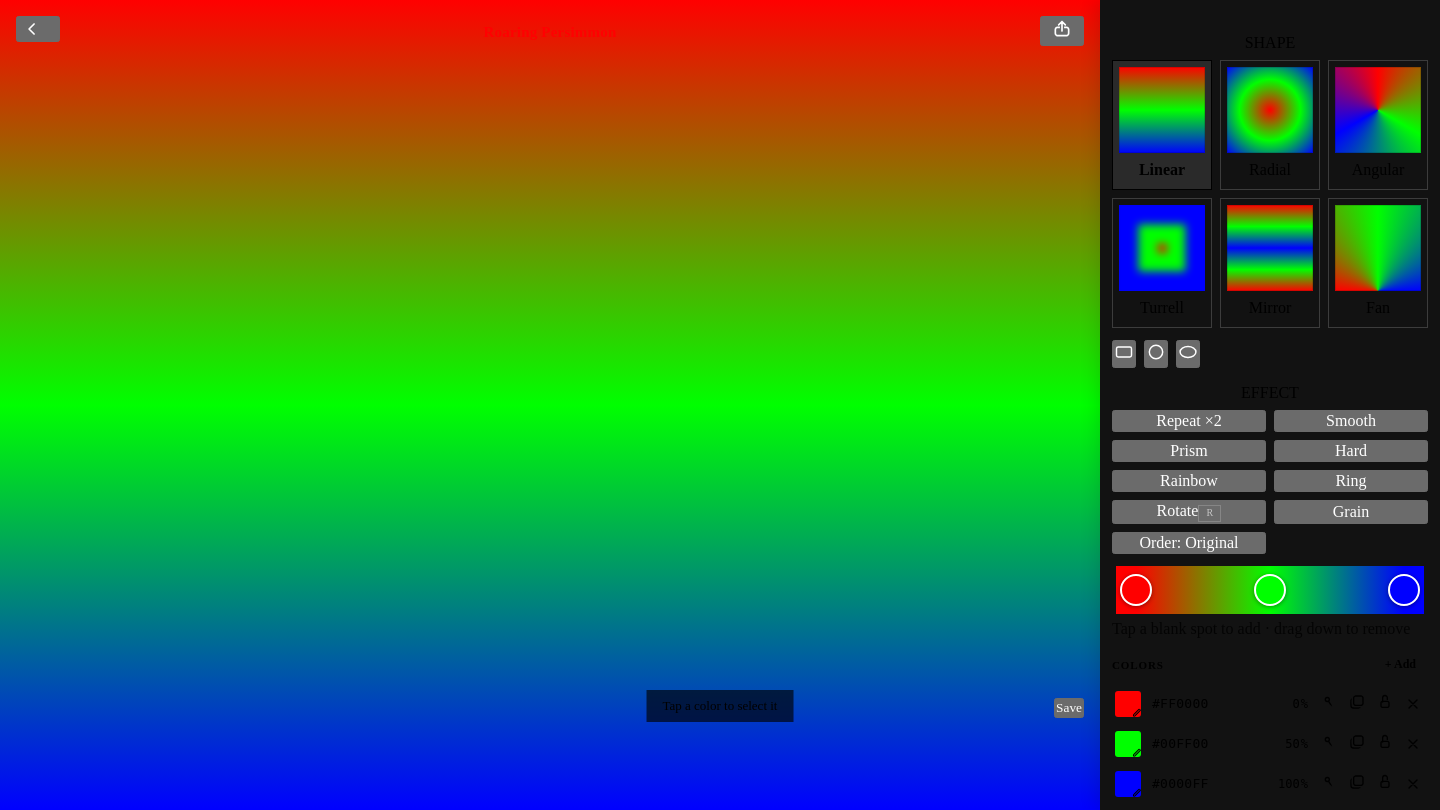
Test: EditMode › renders an order control showing the ACTIVE order, cycling Original -> Lightness -> Chroma -> Hue -> Original
Click the button with test id "sort-button" at (1189, 542), box [1112, 532, 1266, 554]
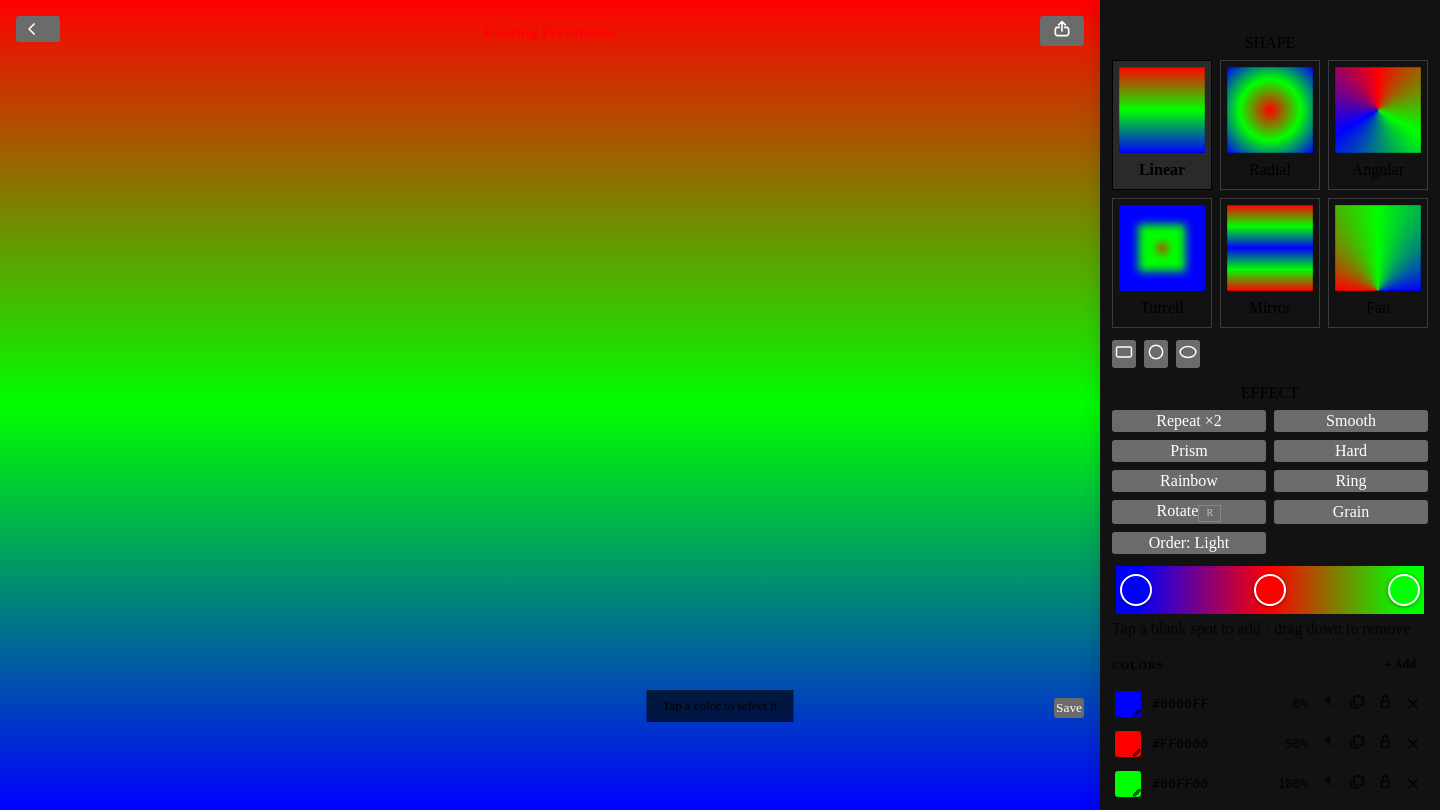
Result: the button with test id "sort-button" reads "Order: Light"
Click the button with test id "sort-button" at (1189, 542), box [1112, 532, 1266, 554]
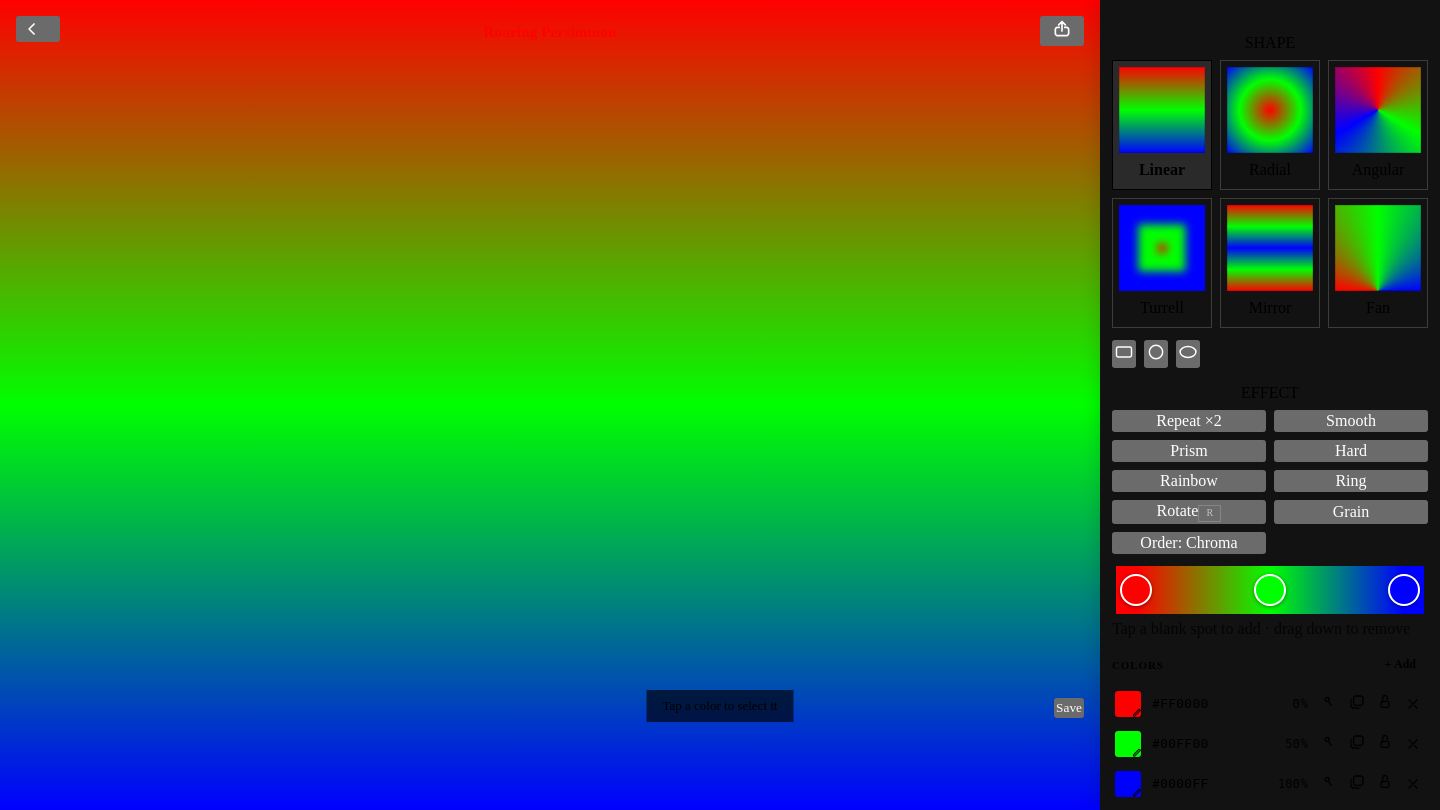
Result: the button with test id "sort-button" reads "Order: Chroma"
Click the button with test id "sort-button" at (1189, 542), box [1112, 532, 1266, 554]
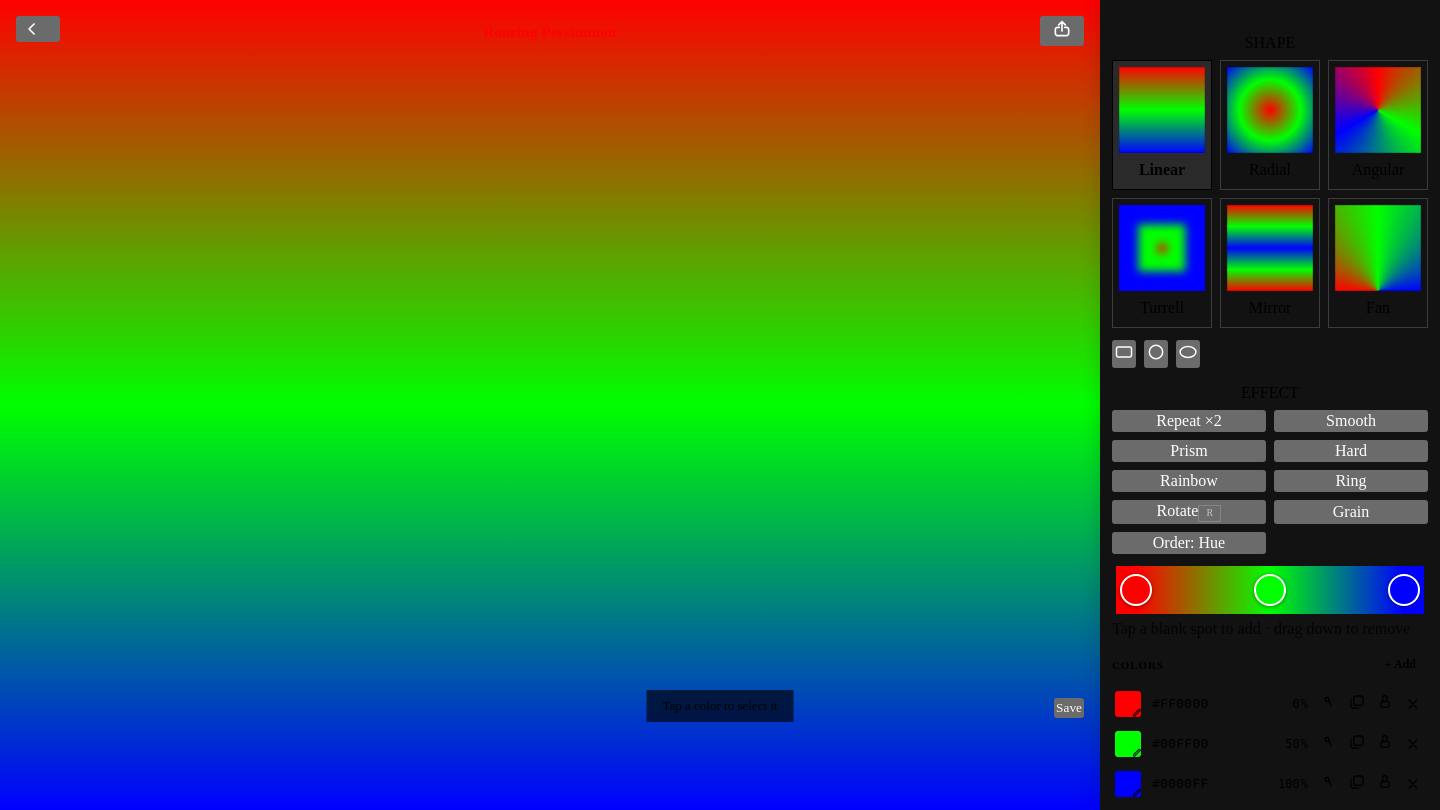
Result: the button with test id "sort-button" reads "Order: Hue"
Click the button with test id "sort-button" at (1189, 542), box [1112, 532, 1266, 554]
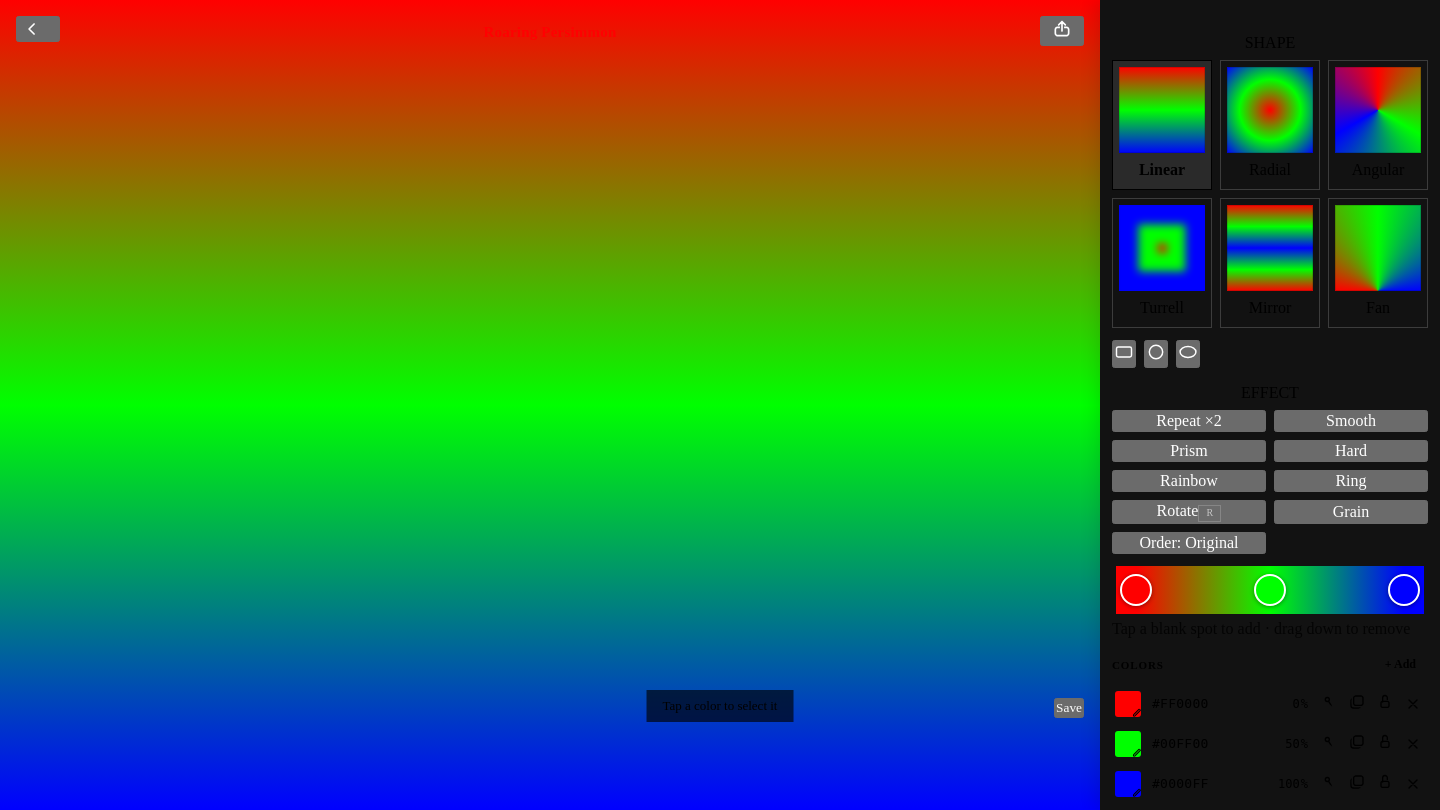
Result: the button with test id "sort-button" reads "Order: Original" at [1112, 532, 1266, 554]
